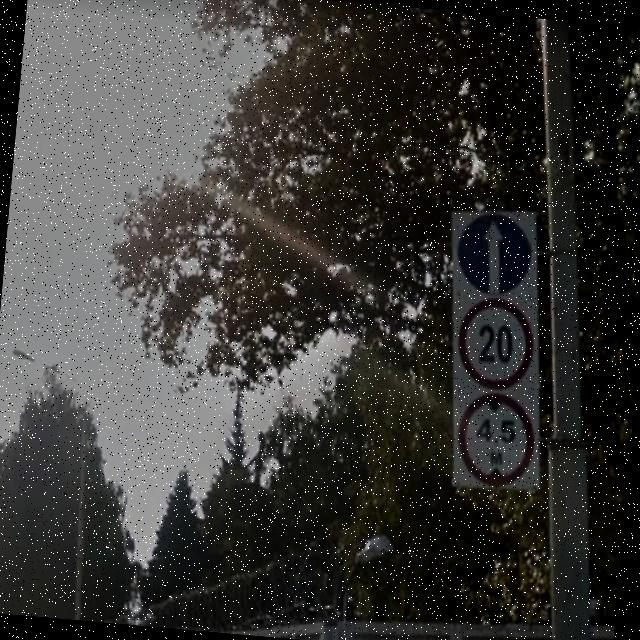Ograniczenie predkosci do 20: (451, 289, 541, 396)
